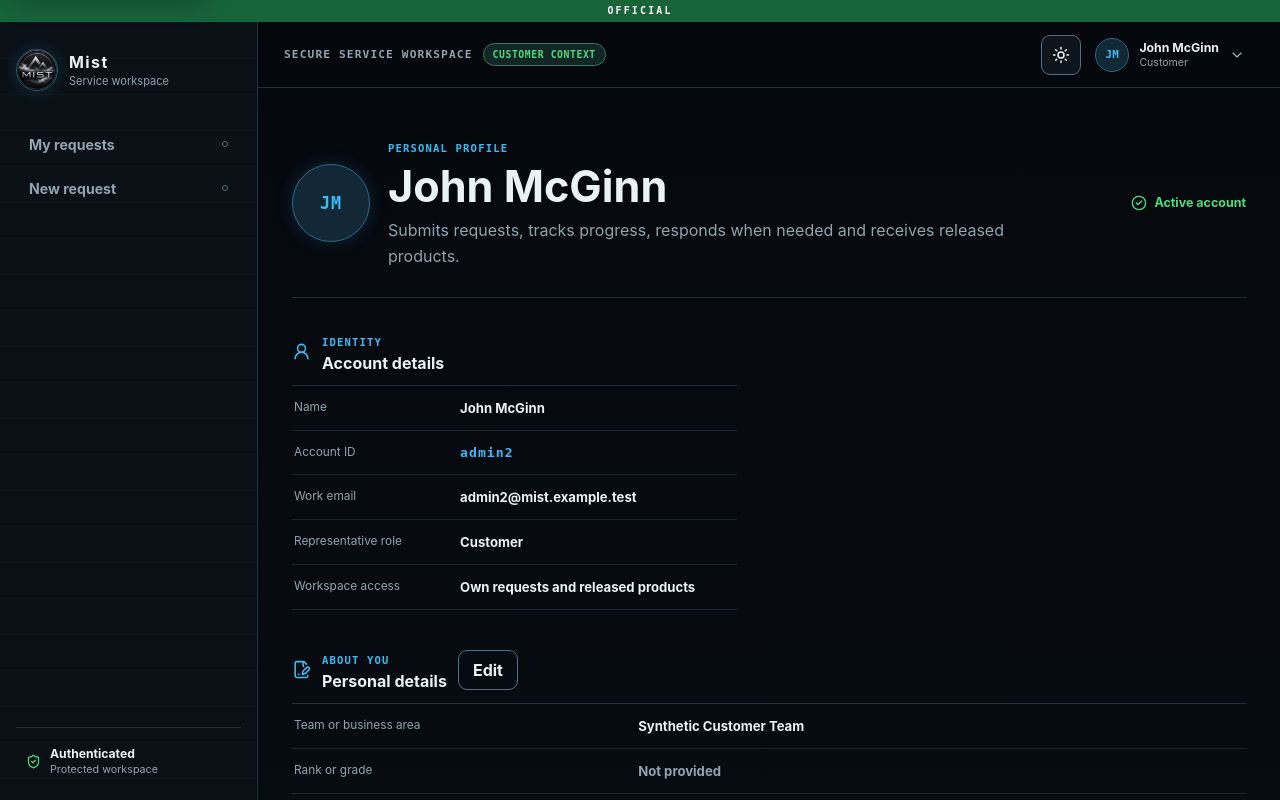
Test case: personal profile › presents saved personal details as page content until Edit is chosen
Expected: the text "Synthetic Customer Team" is shown, [638,718,804,734]
Expected: the field labelled "Service number" is not shown
Click the button with aria-label "Edit personal details".
click(488, 670)  # box [458,650,518,690]
(page scrolled)
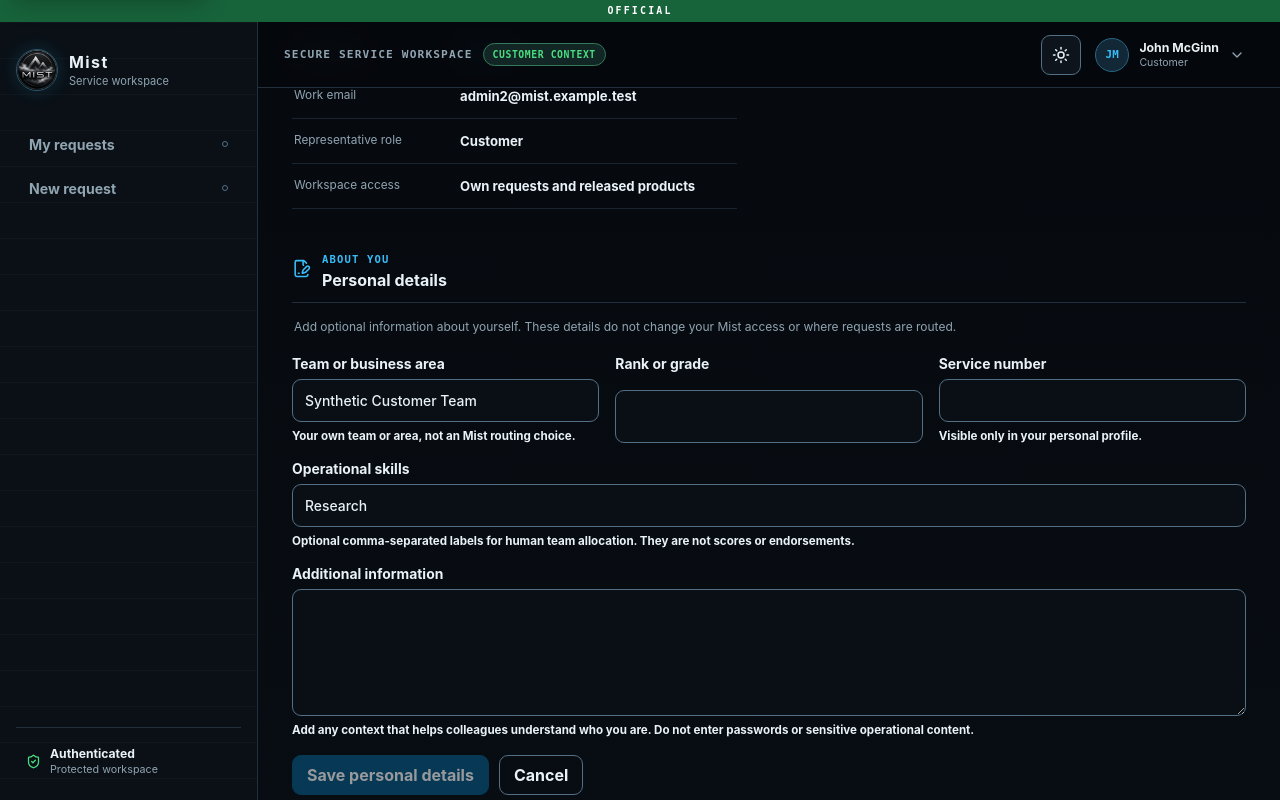
Expected: the field labelled "Team or business area" holds "Synthetic Customer Team", [292,379,599,422]
